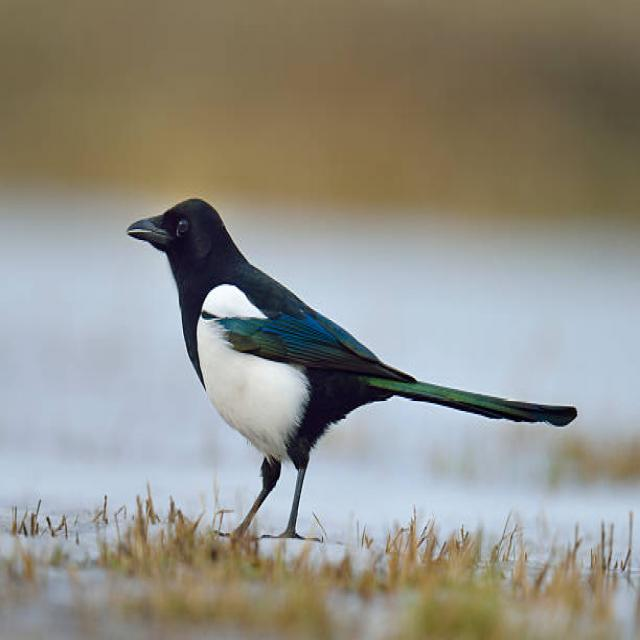Magpie: (126, 196, 578, 544)
